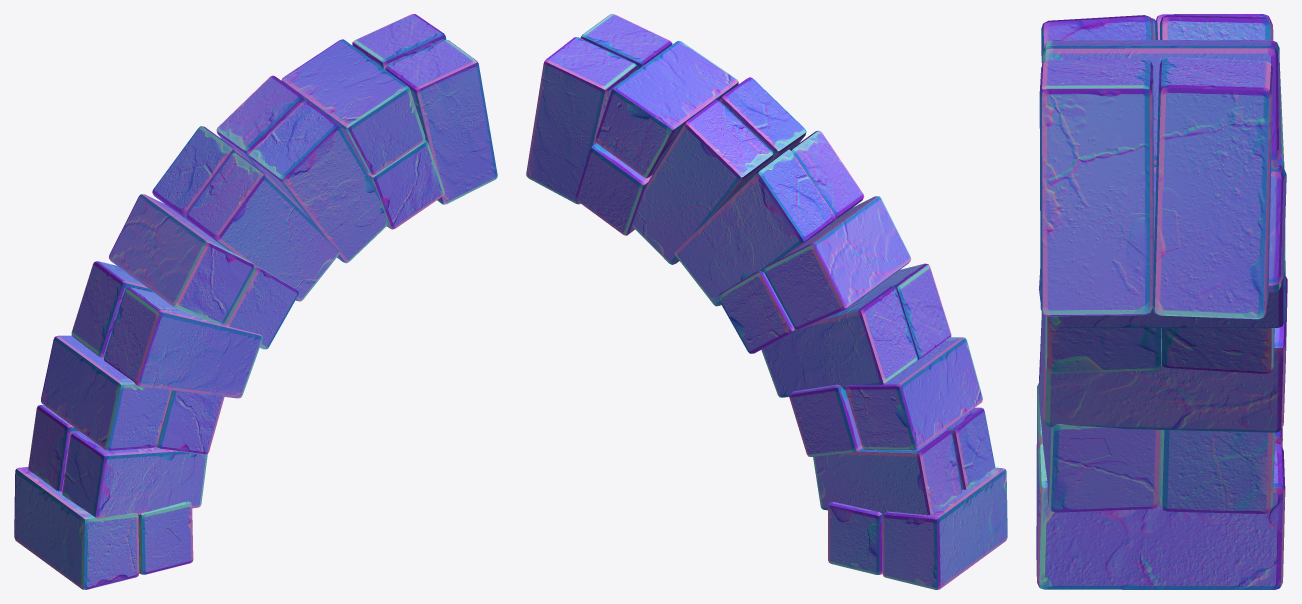
The model's file is Dungeon_Pillar2Curved.fbx.
The picture shows the model from 3 angles, left to right: view 1: azimuth 30°, elevation 25°; view 2: azimuth 150°, elevation 25°; view 3: azimuth 270°, elevation 25°; orthographic projection. The views are drawn at different scales.
Parts seen in each view (by area): view 1: MeshHP; view 2: MeshHP; view 3: MeshHP.
Part boxes in pixels (x1,y1,x2,y2): MeshHP: [14, 14, 497, 589]; MeshHP: [526, 14, 1007, 589]; MeshHP: [1036, 14, 1287, 589].
Size of the model in its own units: 4.76 by 4.72 by 1.44.
1 material, 1 textured.
